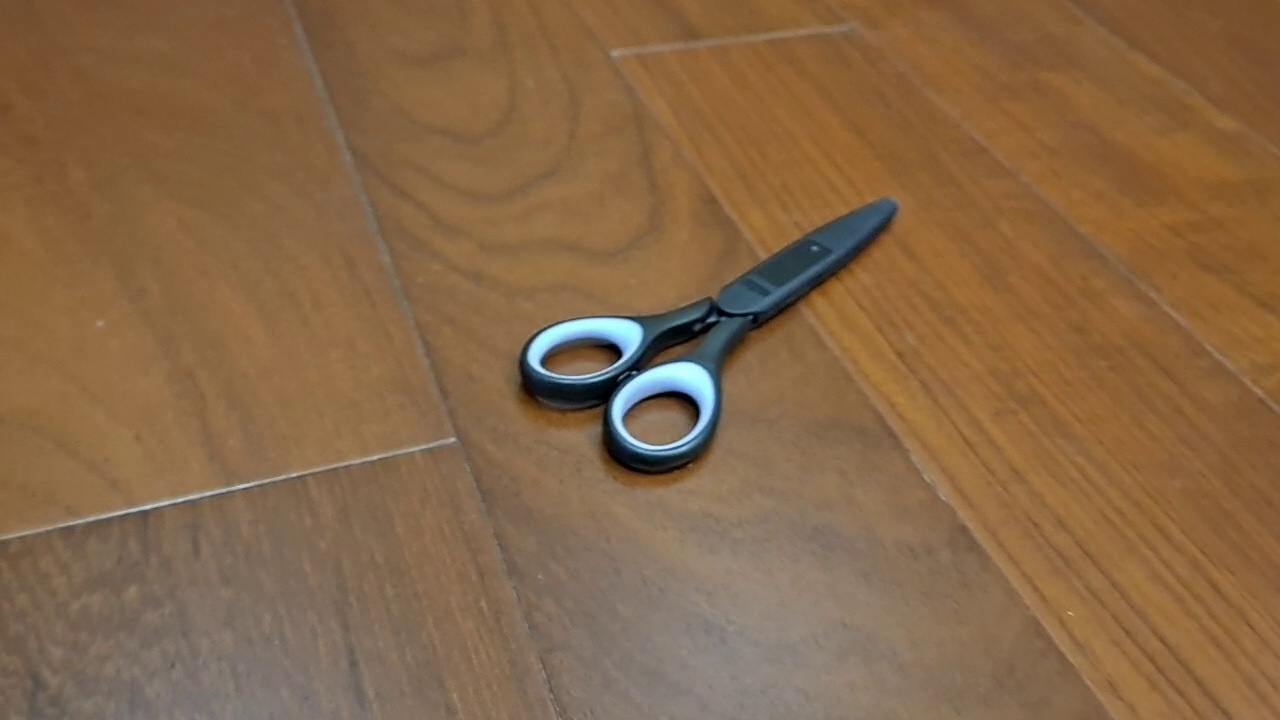scissors: (517, 194, 901, 476)
